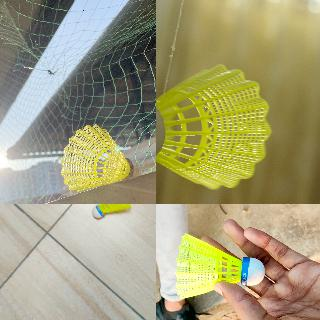shuttlecock: (156, 64, 272, 191), (176, 234, 264, 298), (60, 125, 140, 192), (92, 204, 133, 218)
